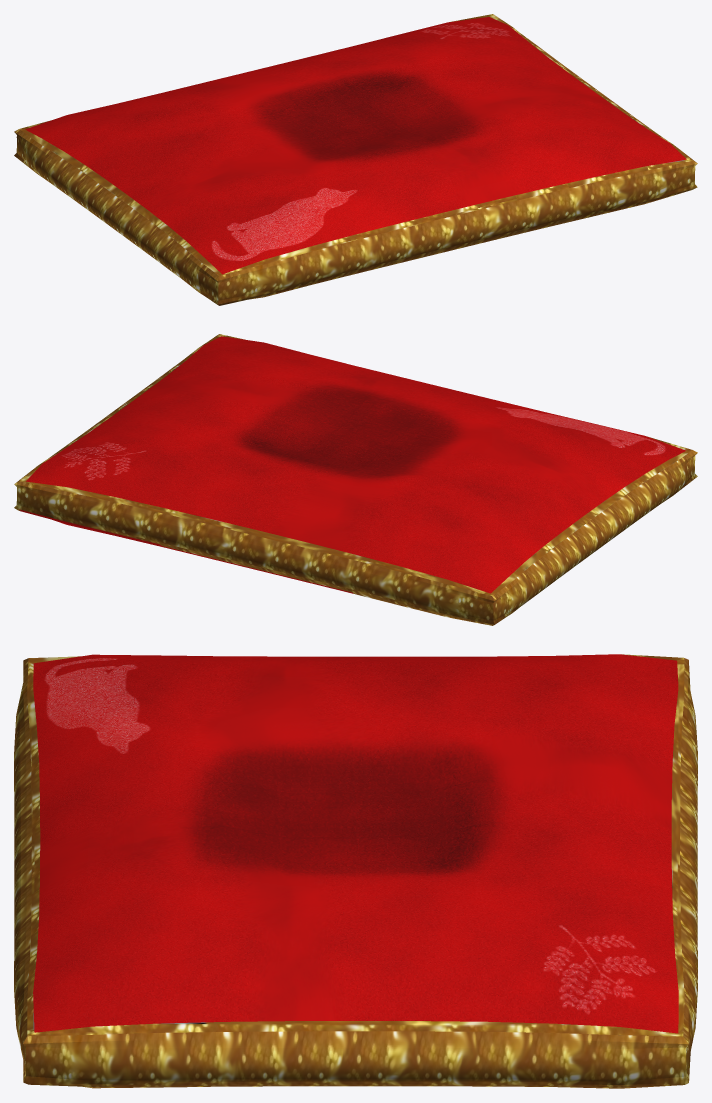
Rendered from PillowFinalFBX2.fbx.
3 views of the same model, one above another, from view 1: azimuth 30°, elevation 25°; view 2: azimuth 150°, elevation 25°; view 3: azimuth 270°, elevation 25° (orthographic). The views are drawn at different scales.
Visible parts, largest first — view 1: pCube2; view 2: pCube2; view 3: pCube2.
Boxes of the visible parts, bbox=[...] form: pCube2: bbox=[14, 14, 697, 305]; pCube2: bbox=[14, 334, 697, 625]; pCube2: bbox=[14, 654, 697, 1088].
Size of the model in its own units: 2.91 by 0.4459 by 2.13.
Materials: 1 (1 with a texture image).
